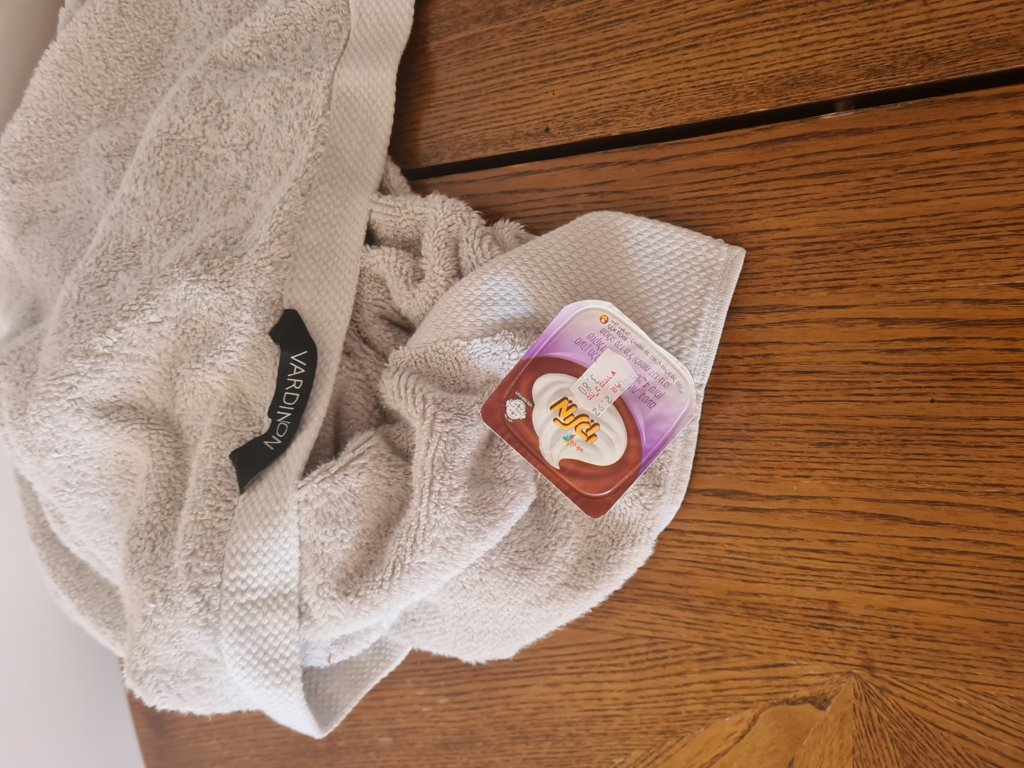milky: (483, 306, 701, 516)
